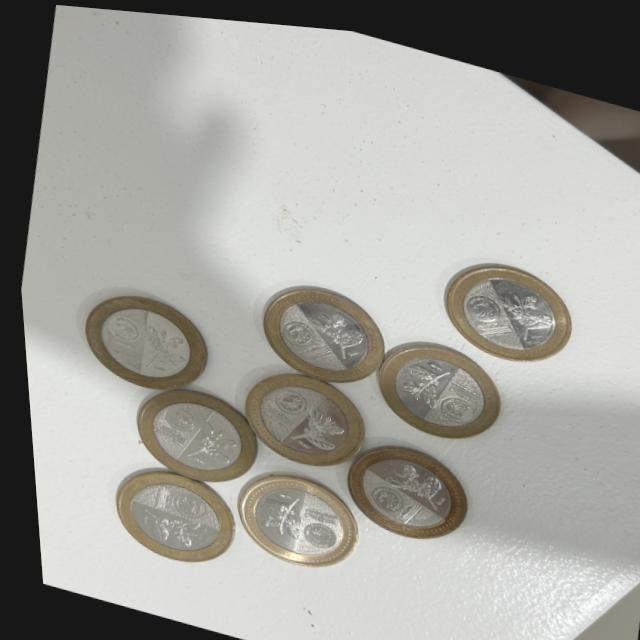20_New_Back: (125, 317, 192, 389), (126, 500, 207, 555), (489, 275, 556, 341), (243, 481, 303, 543), (301, 300, 360, 360), (373, 450, 438, 504), (280, 398, 339, 456), (391, 347, 447, 406), (175, 415, 235, 470)
